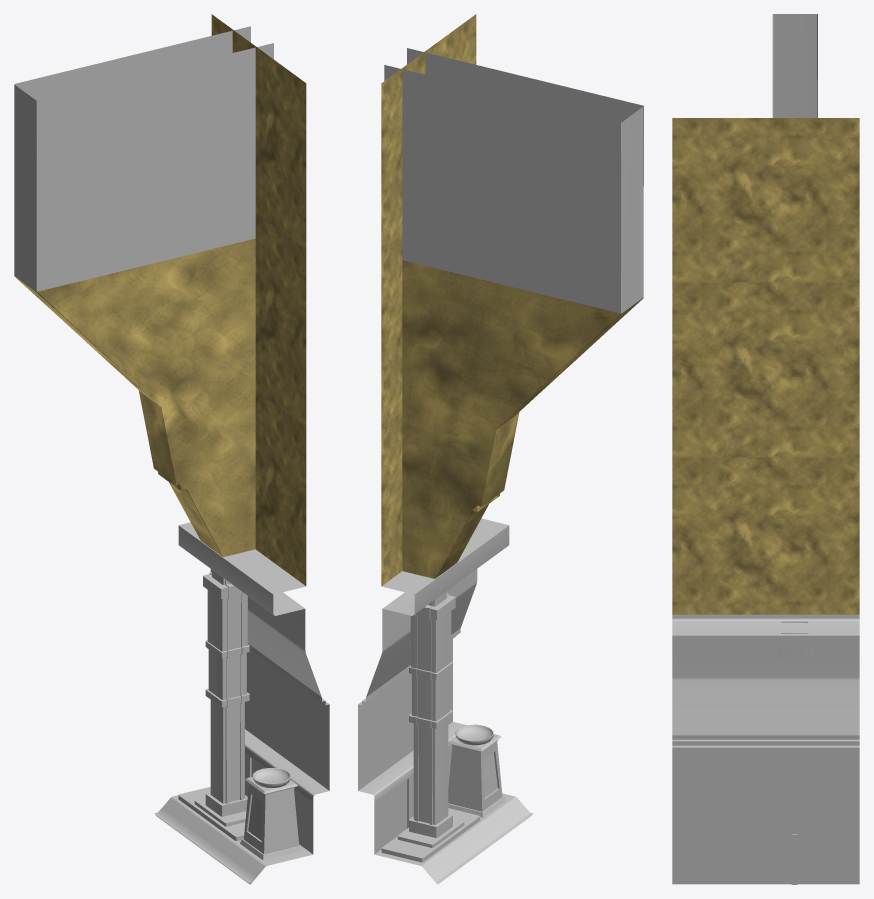
File: TallWall.fbx
3 renders of one model, left to right at view 1: azimuth 30°, elevation 25°; view 2: azimuth 150°, elevation 25°; view 3: azimuth 270°, elevation 25°, orthographic.
Parts seen in each view (by area): view 1: Butress, Wall, Pillar3, Stand1, MeshTape; view 2: Butress, Wall, Pillar3, Stand1, MeshTape; view 3: Wall, Butress, Pillar3.
Part boxes in pixels (<box>): Butress: <box>14,26,273,556</box>; Wall: <box>155,14,329,884</box>; Pillar3: <box>178,570,249,840</box>; Stand1: <box>240,767,302,860</box>; MeshTape: <box>154,808,256,882</box>; Butress: <box>384,48,643,578</box>; Wall: <box>358,14,531,884</box>; Pillar3: <box>381,591,480,862</box>; Stand1: <box>448,724,506,817</box>; MeshTape: <box>431,808,533,882</box>; Wall: <box>672,118,859,884</box>; Butress: <box>772,14,817,117</box>; Pillar3: <box>777,621,812,657</box>.
Bounding box in the file's own units: 383 × 1191 × 260.
